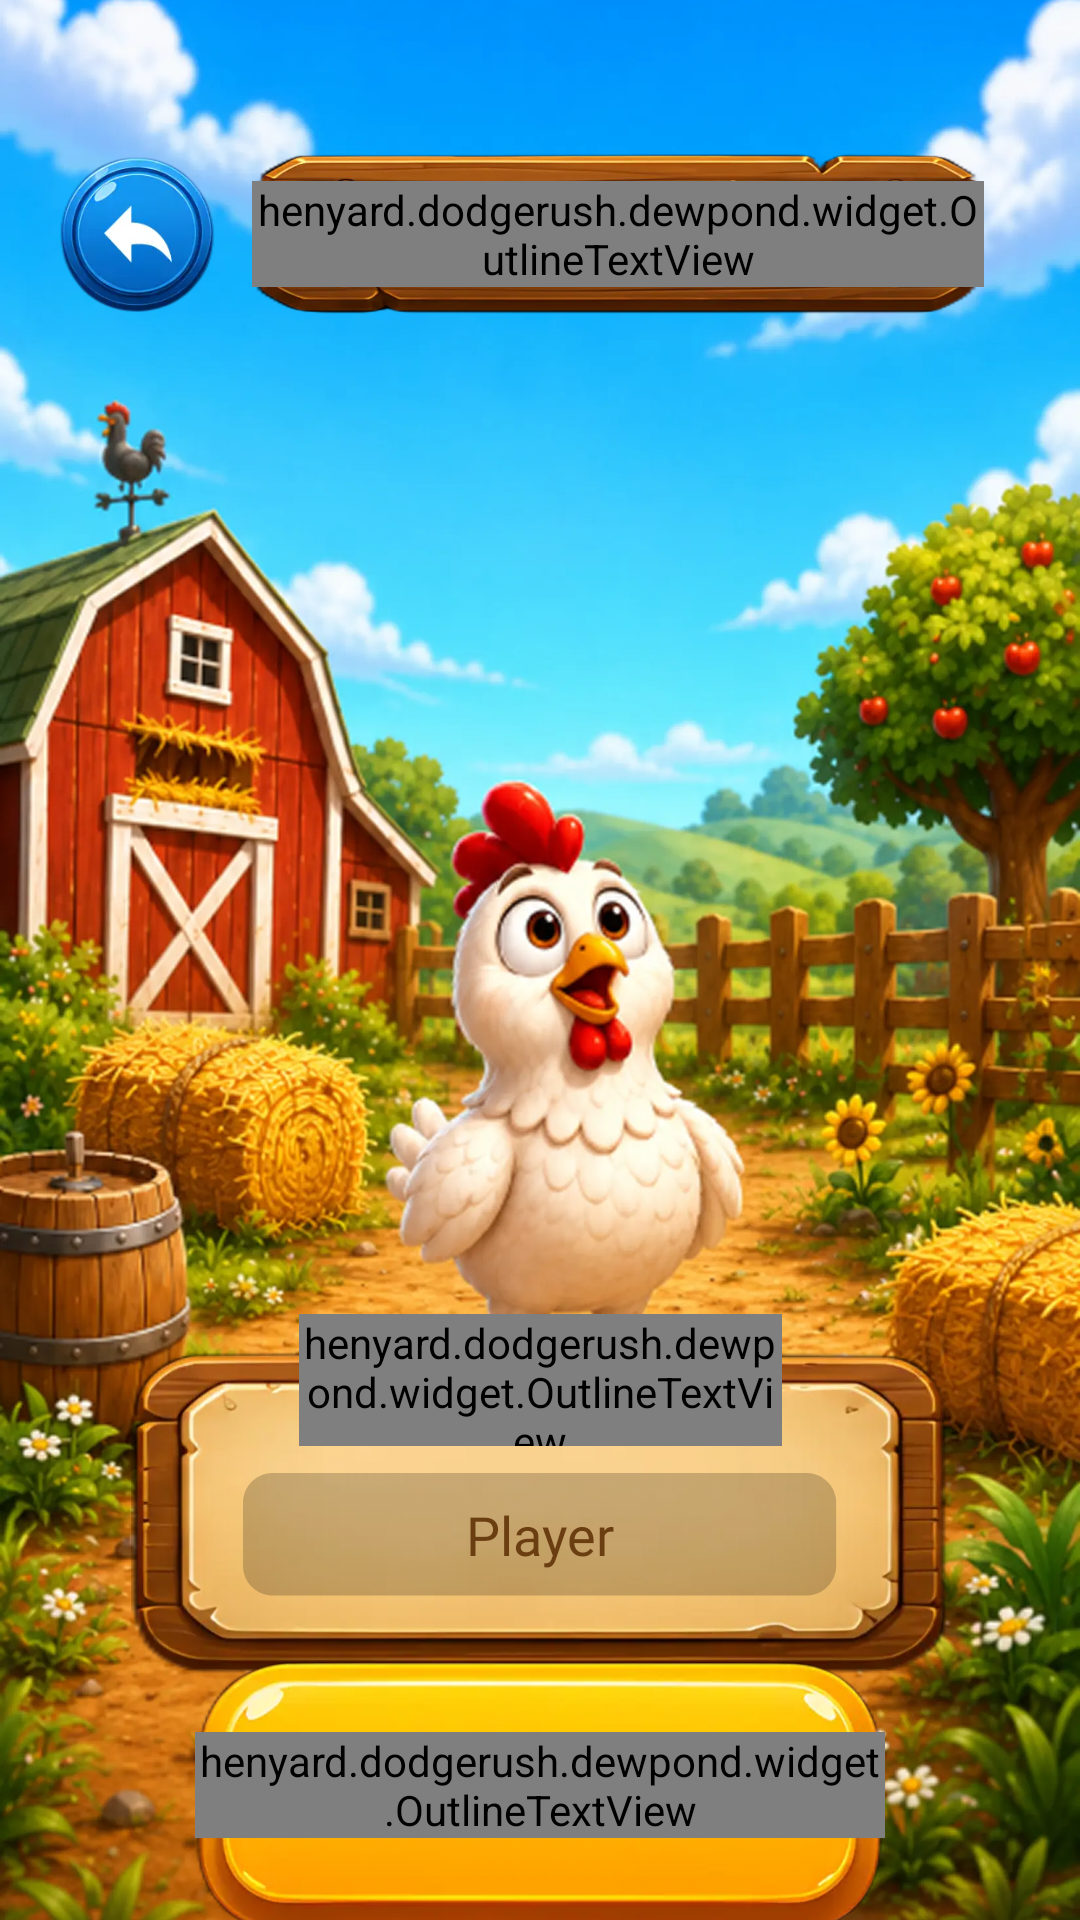

Icons on this 1080px x 1920px Android screen, each with its box as BBox(x1, y1, x2, y2):
Back: BBox(60, 156, 216, 312)
